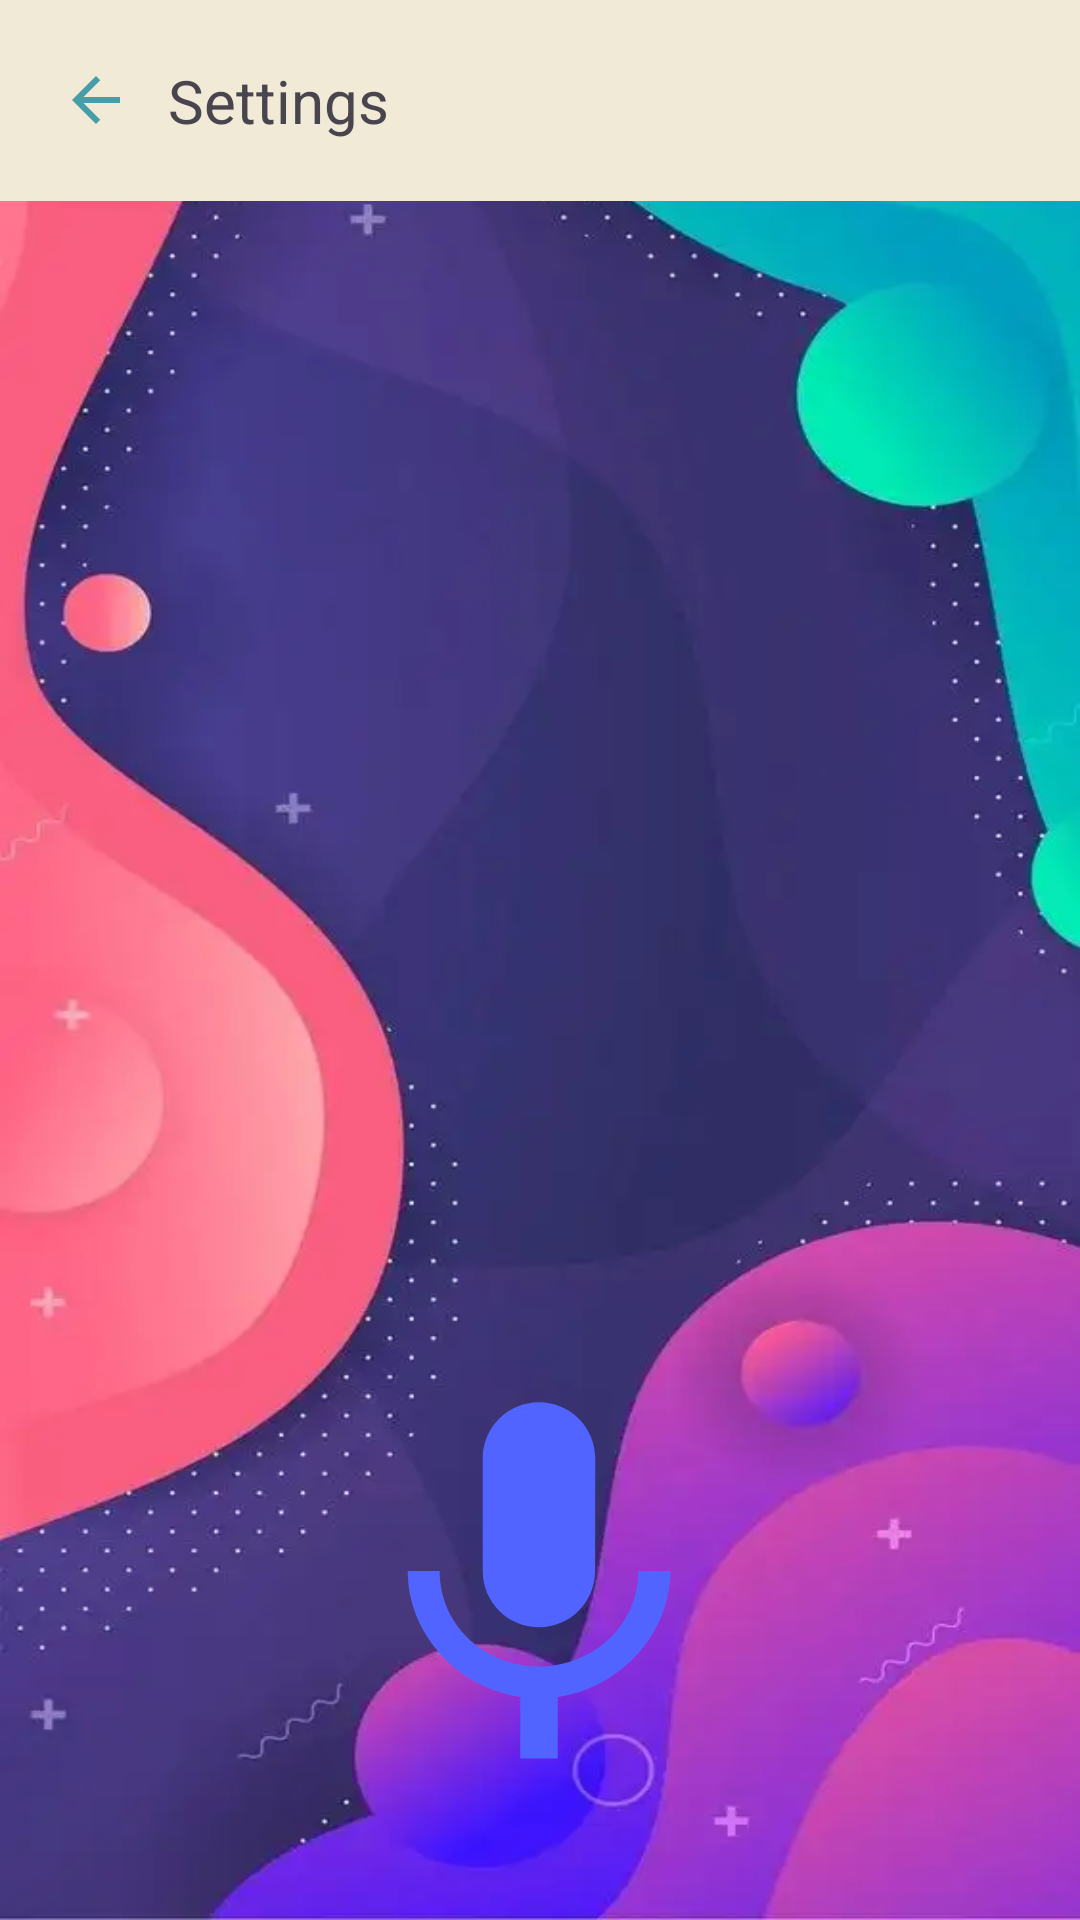

Where icons sit on this 1080 × 1920 app screen, as (x1, y1, x2, y2):
arrow back: (72, 76, 120, 124)
